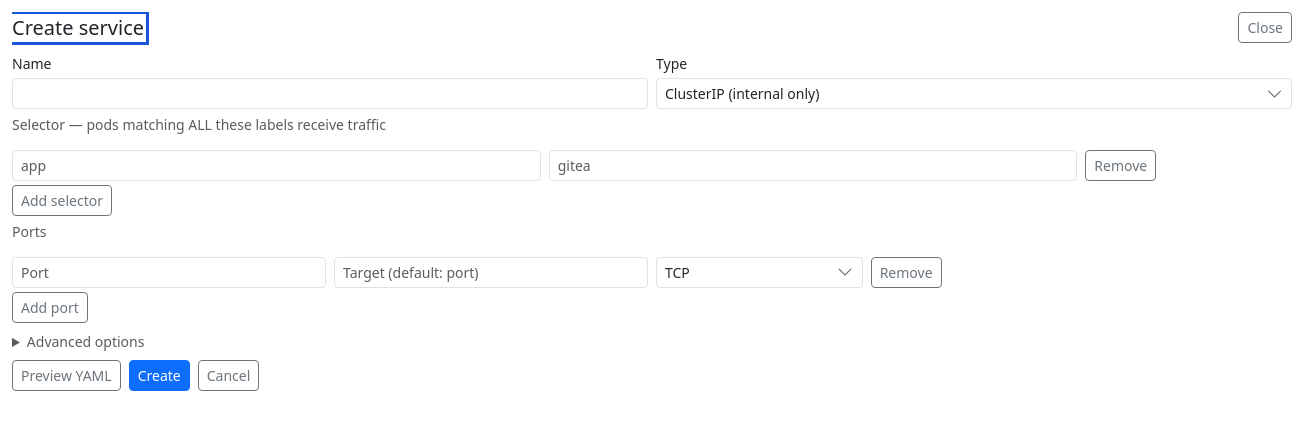
Test: ServiceCreate — layout › adds and removes port rows
Expected: the number of number fields is 1, [12,257,326,288]
Click the button "Add port" at (50, 307), box [12,292,88,323]
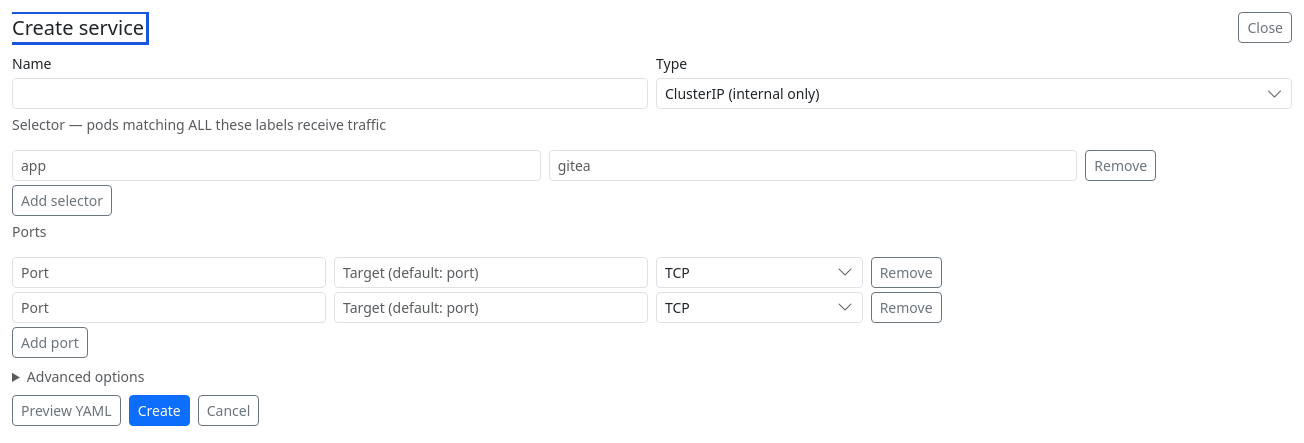
Result: the number of number fields is 2 at [12,257,326,288]; [12,292,326,323]
Click the button with aria-label "Remove port 2" at (906, 307), box [871,292,942,323]
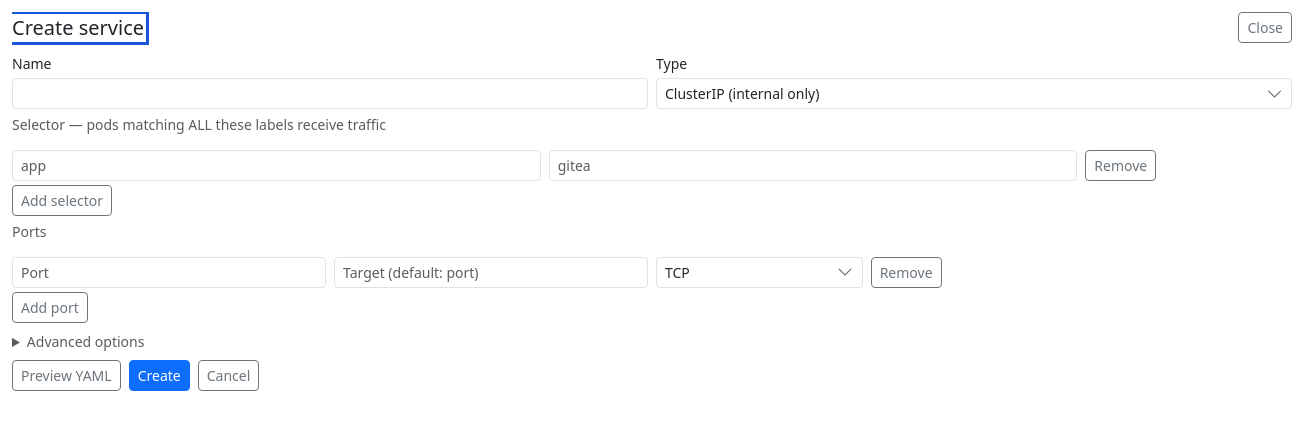
Result: the number of number fields is 1 at [12,257,326,288]
